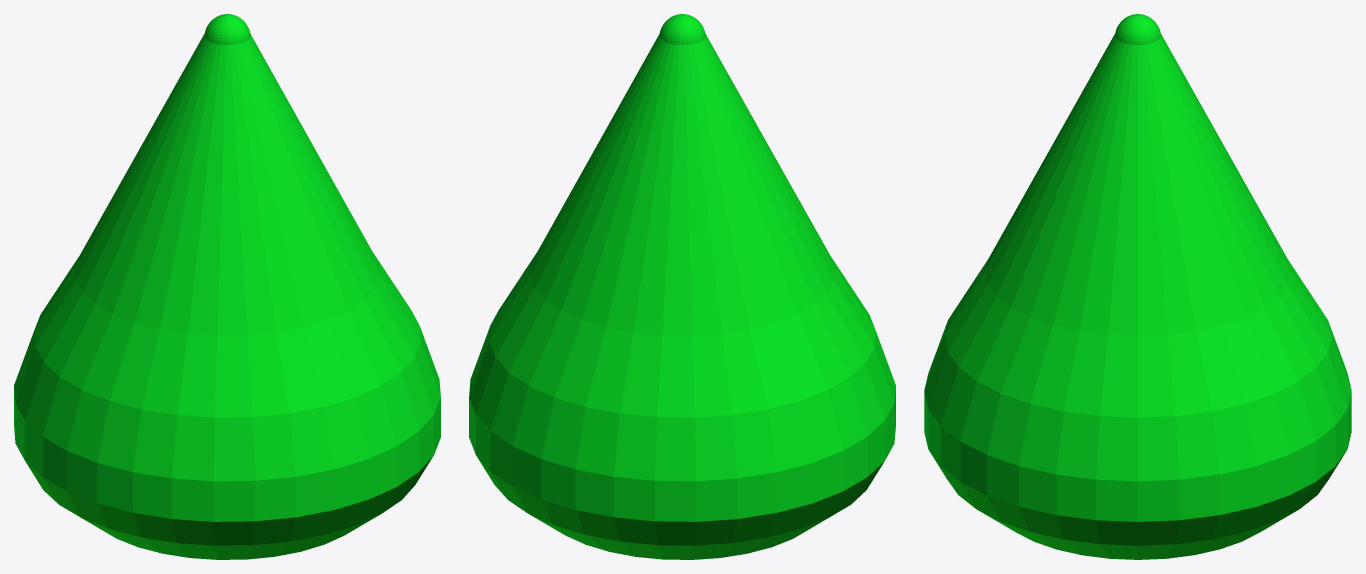
The model's file is Tree3.fbx.
3 views of the same model, side by side, from view 1: azimuth 30°, elevation 25°; view 2: azimuth 150°, elevation 25°; view 3: azimuth 270°, elevation 25° (orthographic).
Parts seen in each view (by area): view 1: Trre3; view 2: Trre3; view 3: Trre3.
Part boxes in pixels (<box>): Trre3: <box>14,14,440,559</box>; Trre3: <box>469,14,895,559</box>; Trre3: <box>924,14,1351,559</box>.
Bounding box in the file's own units: 2.91 × 2.91 × 3.62.
